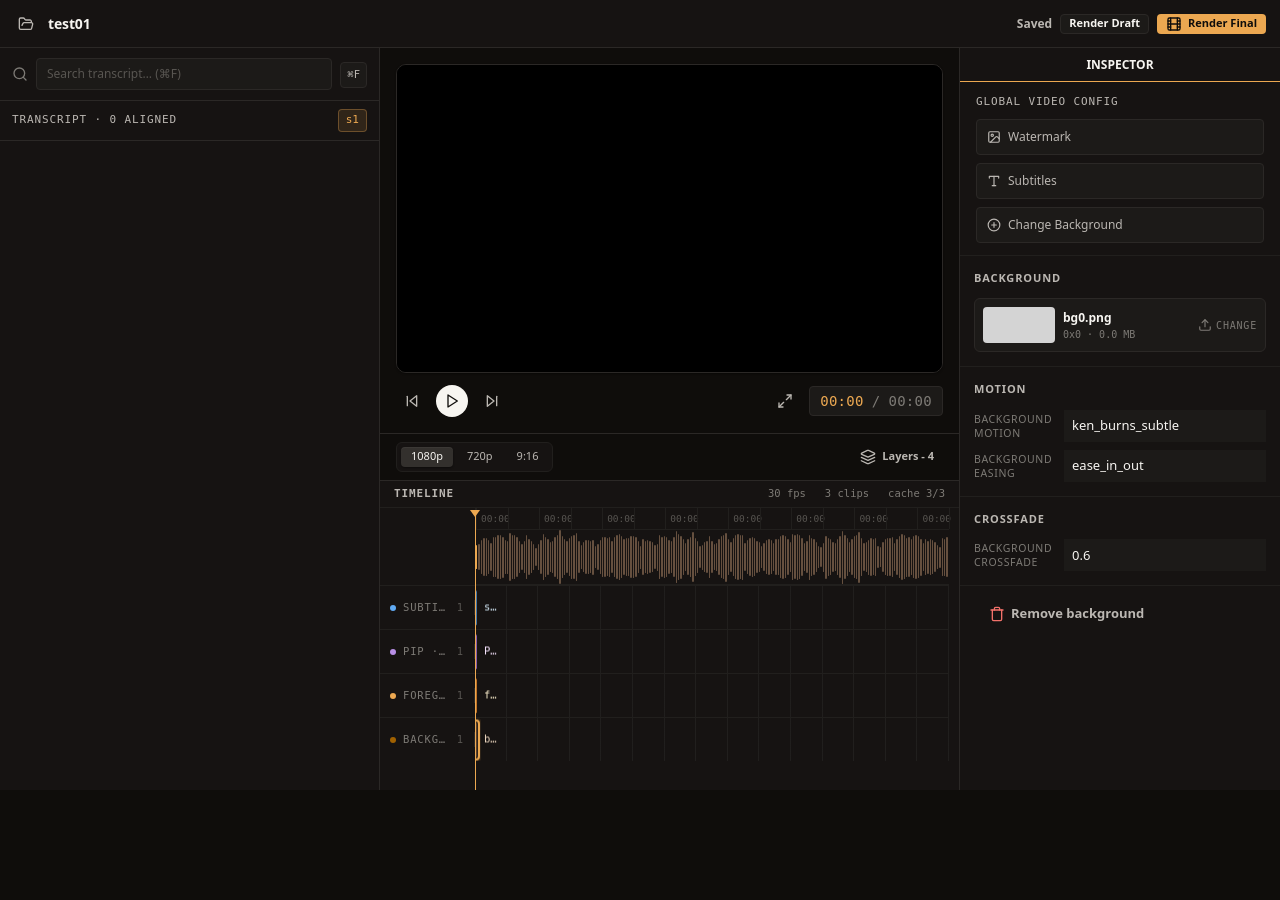
Scenario: shows local cache invalidation after output resolution changes from a warm backend cache
expect the heading "test01" is shown: met, box [48,13,91,34]
expect the text "30 fps 3 clips cache 3/3" is shown: met, box [768,486,945,502]
Click the radio button labelled "720p" at (480, 457), box [457,447,503,467]
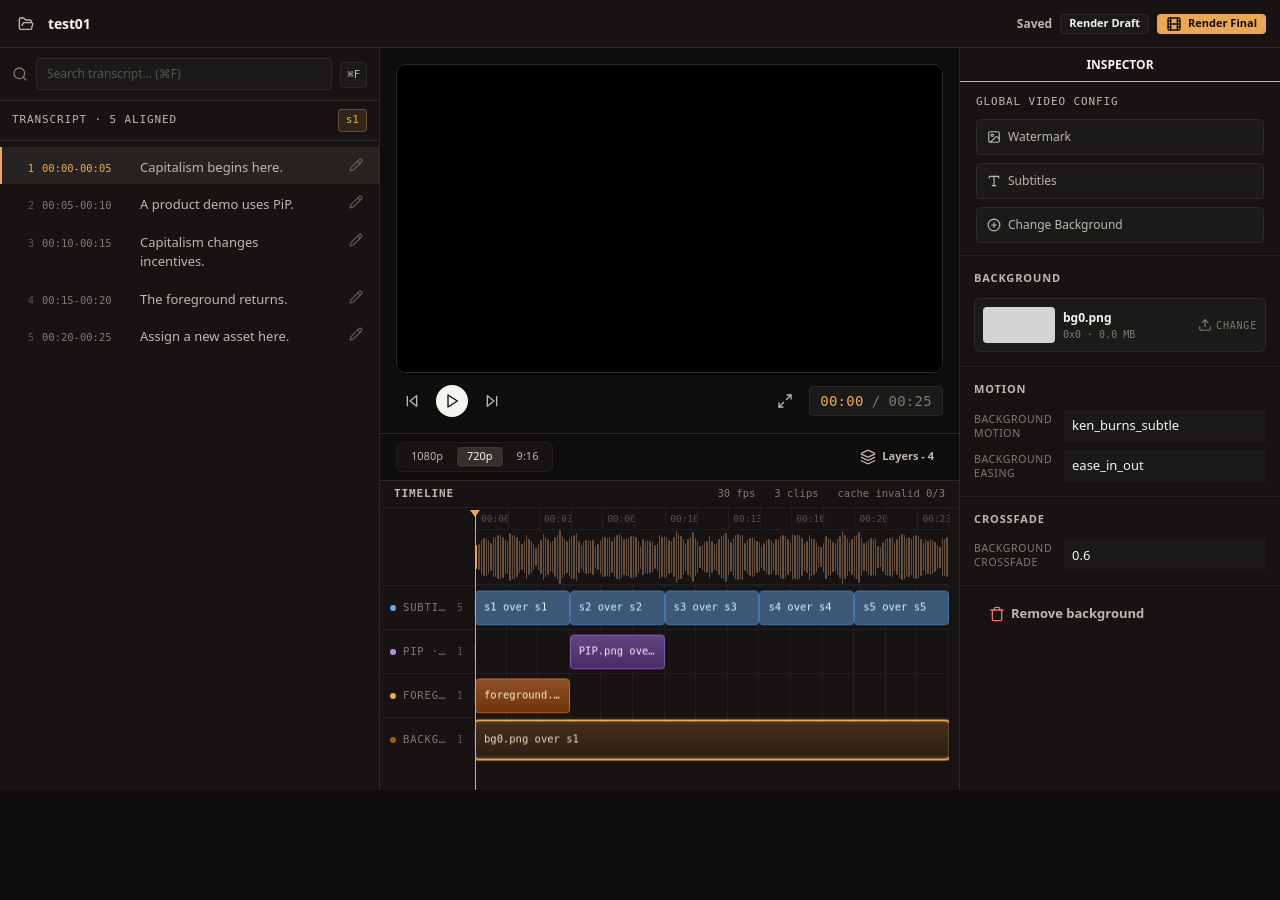
expect the text "30 fps 3 clips cache invalid 0/3" is shown: met, box [717,486,945,502]
